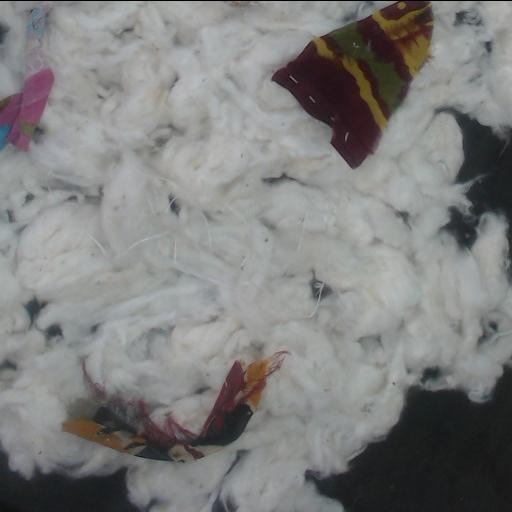cloth: (272, 1, 432, 167), (62, 351, 286, 461), (0, 4, 54, 150), (0, 68, 53, 150)
conveyor belt: (315, 369, 511, 512), (449, 109, 511, 253), (0, 452, 140, 512), (447, 209, 477, 246)
cotton: (0, 1, 511, 512)
thread: (117, 230, 168, 257), (90, 236, 109, 252)
